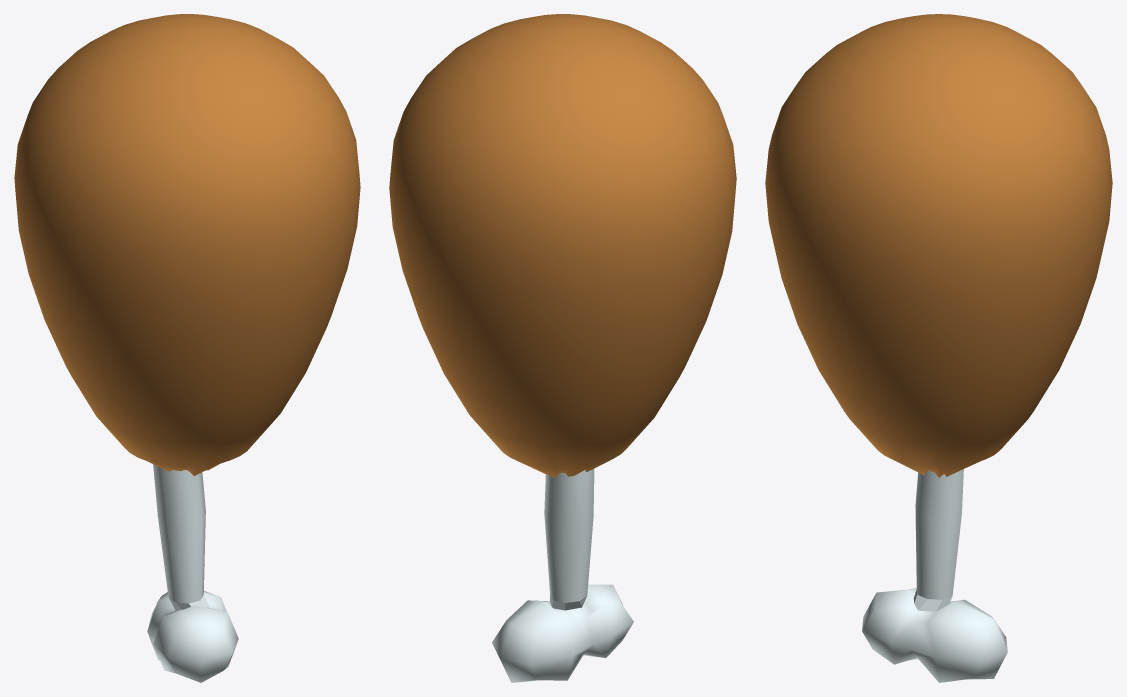
The model's file is chicken-leg.glb.
3 views of the same model, side by side, from view 1: azimuth 30°, elevation 25°; view 2: azimuth 150°, elevation 25°; view 3: azimuth 270°, elevation 25° (orthographic).
Parts seen in each view (by area): view 1: Sphere001, Object013; view 2: Sphere001, Object013; view 3: Sphere001, Object013.
Part boxes in pixels (bbox=[...]): Sphere001: bbox=[14, 14, 360, 475]; Object013: bbox=[147, 464, 238, 682]; Sphere001: bbox=[389, 14, 736, 477]; Object013: bbox=[492, 469, 633, 682]; Sphere001: bbox=[765, 14, 1112, 477]; Object013: bbox=[862, 469, 1007, 682].
Bounding box in the file's own units: 0.013 × 0.0267 × 0.013.
